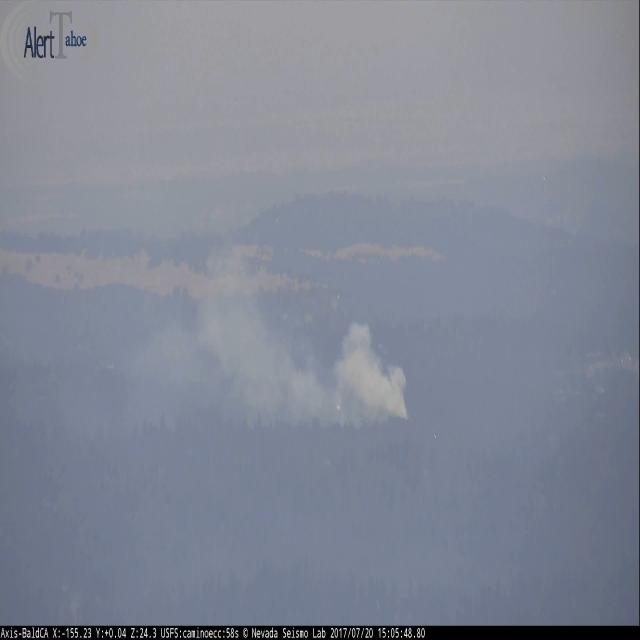smoke: (128, 240, 412, 423)
